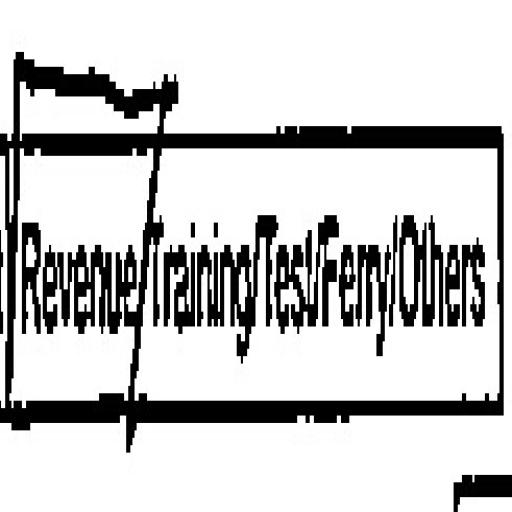check: (13, 15, 142, 512)
